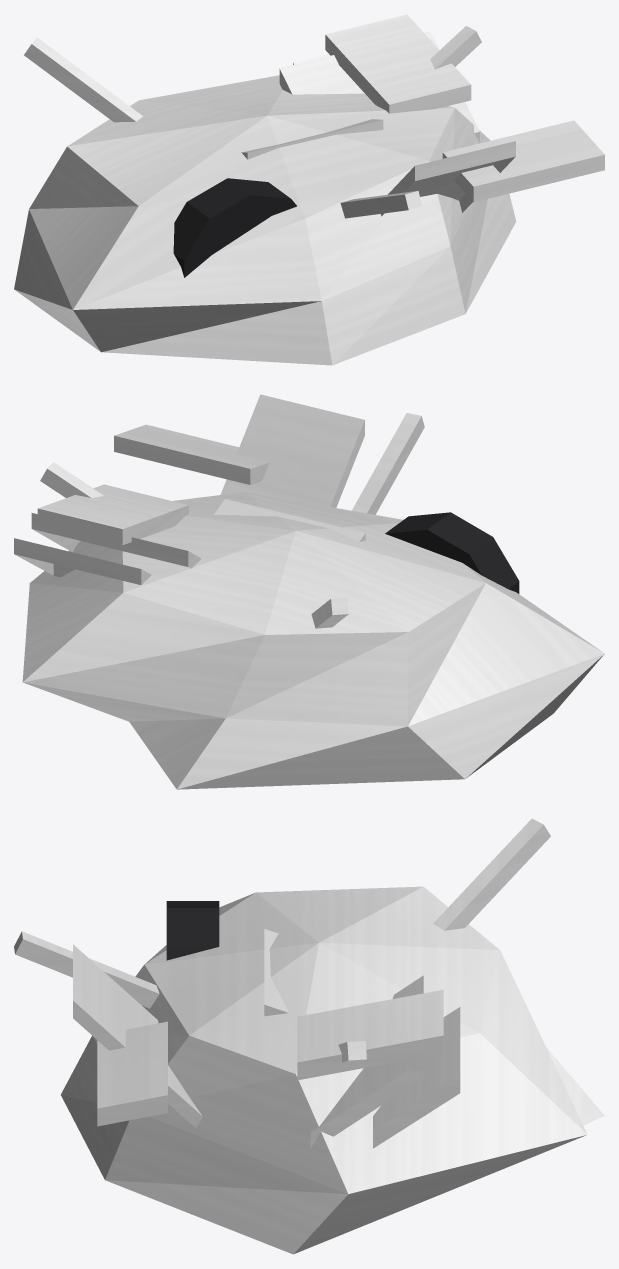
File: junk_2.obj
The picture shows the model from 3 angles, top to bottom: view 1: azimuth 30°, elevation 25°; view 2: azimuth 150°, elevation 25°; view 3: azimuth 270°, elevation 25°; orthographic projection. The views are drawn at different scales.
Parts seen in each view (by area): view 1: junk_2; view 2: junk_2; view 3: junk_2.
Part boxes in pixels (box(x1,y1,x2,y2)): junk_2: box(14, 14, 604, 365); junk_2: box(14, 394, 604, 789); junk_2: box(14, 818, 604, 1254).
Size of the model in its own units: 0.9872 by 0.3745 by 0.8993.
